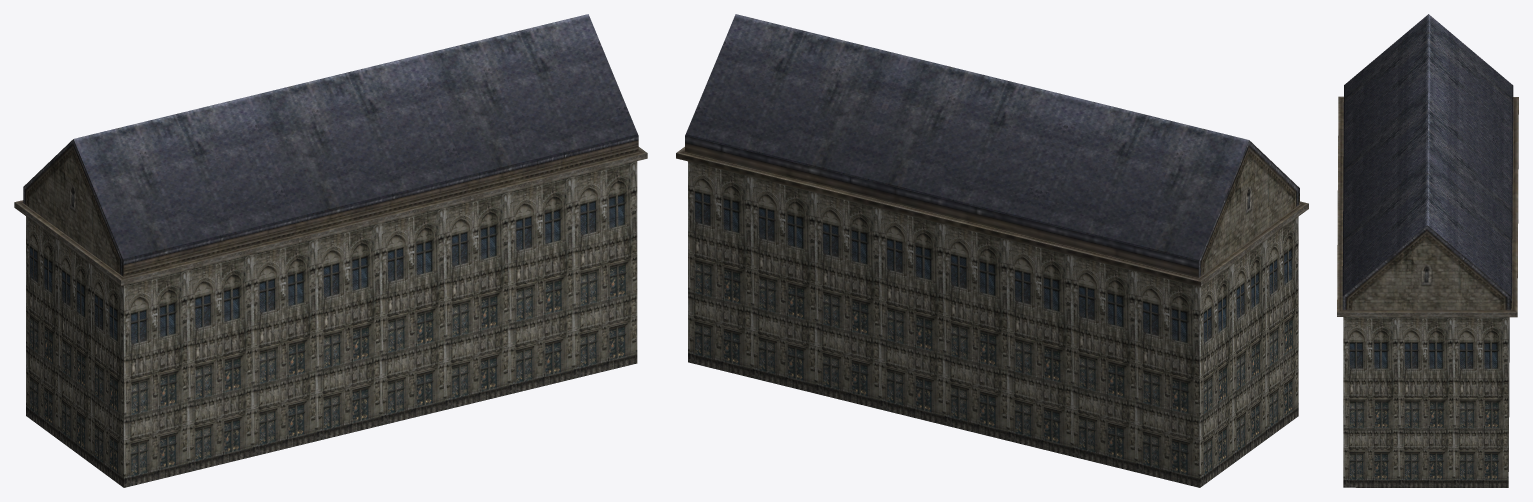
File: SM_EN_2005_fangzi02.FBX
3 renders of one model, left to right at view 1: azimuth 30°, elevation 25°; view 2: azimuth 150°, elevation 25°; view 3: azimuth 270°, elevation 25°, orthographic. The views are drawn at different scales.
Parts seen in each view (by area): view 1: SM_EN_2005_fangzi02; view 2: SM_EN_2005_fangzi02; view 3: SM_EN_2005_fangzi02.
Part boxes in pixels (x1,y1,x2,y2): SM_EN_2005_fangzi02: (14,14,647,487); SM_EN_2005_fangzi02: (676,14,1308,487); SM_EN_2005_fangzi02: (1337,14,1518,487).
Bounding box in the file's own units: 845 × 480 × 300.
